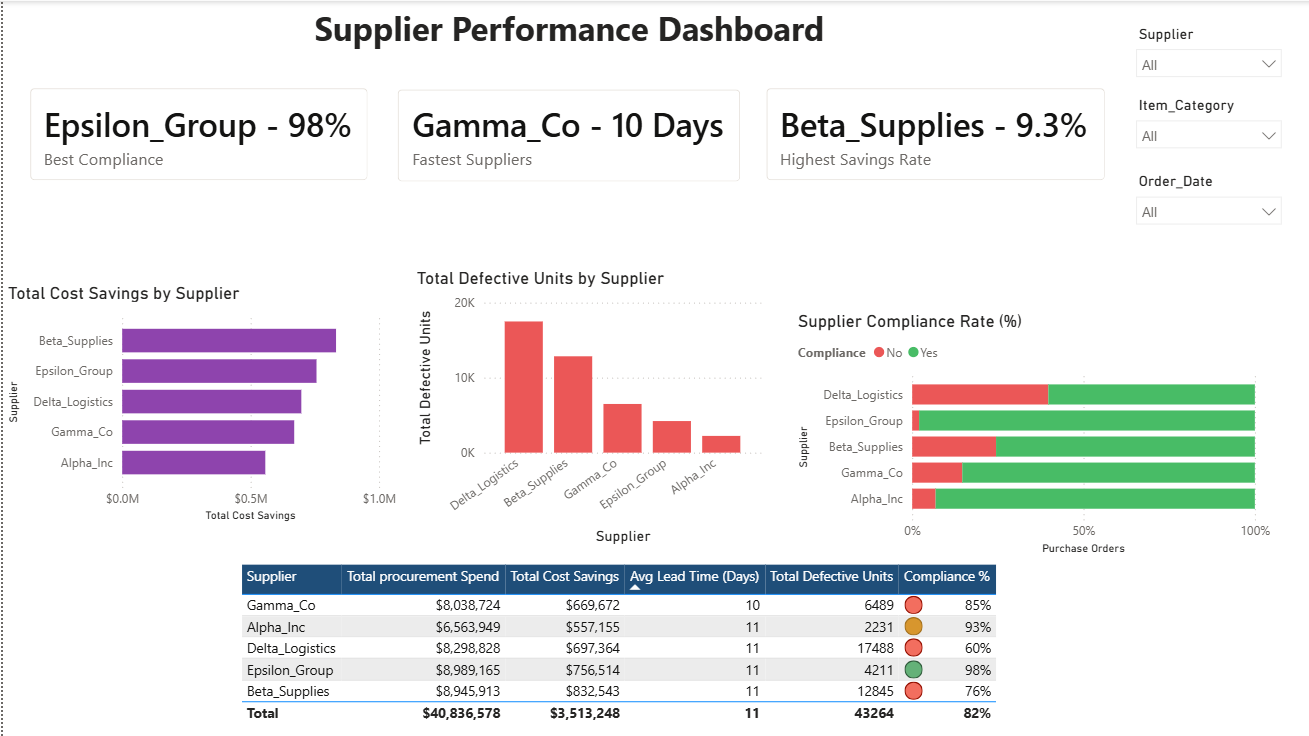

The dashboard page shown, as its layout file describes it:
{"tool":"powerbi","page":{"name":"Supplier Performance","canvas":[1280,720],"ordinal":1},"visuals":[{"type":"textbox","box":[9.8,0,1088.3,73.4],"z":0},{"type":"slicer","fields":{"Values":["Procurement KPI Analysis Dataset.Supplier"]},"box":[1098.1,18.3,162.6,69.7],"z":1000},{"type":"slicer","fields":{"Values":["Procurement KPI Analysis Dataset.Item_Category"]},"box":[1098.1,88,162.6,62.4],"z":2000},{"type":"slicer","fields":{"Values":["Procurement KPI Analysis Dataset.Order_Date"]},"box":[1098.1,162.6,162.6,62.4],"z":3000},{"type":"clusteredBarChart","fields":{"Category":["Procurement KPI Analysis Dataset.Supplier"],"Y":["Procurement KPI Analysis Dataset.Total Cost Savings"]},"box":[0,275.1,390.1,239.7],"z":4000},{"type":"hundredPercentStackedBarChart","title":"Supplier Compliance Rate (%)","fields":{"Category":["Procurement KPI Analysis Dataset.Supplier"],"Y":["Procurement KPI Analysis Dataset.Purchase Orders"],"Series":["Procurement KPI Analysis Dataset.Compliance"]},"box":[772.8,303.3,472,243.3],"z":5000},{"type":"tableEx","fields":{"Values":["Procurement KPI Analysis Dataset.Supplier","Procurement KPI Analysis Dataset.Total procurement Spend","Procurement KPI Analysis Dataset.Total Cost Savings","Procurement KPI Analysis Dataset.Avg Lead Time (Days)","Procurement KPI Analysis Dataset.Total Defective Units","Procurement KPI Analysis Dataset.Compliance %"]},"box":[227.4,546.6,770.4,173.6],"z":6000},{"type":"clusteredColumnChart","fields":{"Category":["Procurement KPI Analysis Dataset.Supplier"],"Y":["Procurement KPI Analysis Dataset.Total Defective Units"]},"box":[399.9,260.5,347.3,276.4],"z":7000},{"type":"cardVisual","fields":{"Data":["Procurement KPI Analysis Dataset.Best Compliance Suppliers"]},"box":[9.8,68.5,364.4,124.7],"z":8000},{"type":"cardVisual","fields":{"Data":["Procurement KPI Analysis Dataset.Fastest Suppliers"]},"box":[369.3,69.7,369.3,124.7],"z":9000},{"type":"cardVisual","fields":{"Data":["Procurement KPI Analysis Dataset.Highest Savings Supplier"]},"box":[730,68.5,365.6,124.7],"z":10000}]}

Visuals, with their boxes in screenshot pixels (x1, y1, x2, y2), scaled from the page's 1280x720 canvas onto the 1309x736 screenshot:
textbox: l=10, t=0, r=1123, b=75
slicer - Procurement KPI Analysis Dataset.Supplier: l=1123, t=19, r=1289, b=90
slicer - Procurement KPI Analysis Dataset.Item_Category: l=1123, t=90, r=1289, b=154
slicer - Procurement KPI Analysis Dataset.Order_Date: l=1123, t=166, r=1289, b=230
clusteredBarChart - Procurement KPI Analysis Dataset.Supplier x Procurement KPI Analysis Dataset.Total Cost Savings: l=0, t=281, r=399, b=526
"Supplier Compliance Rate (%)" hundredPercentStackedBarChart: l=790, t=310, r=1273, b=559
tableEx - Procurement KPI Analysis Dataset.Supplier x Procurement KPI Analysis Dataset.Total procurement Spend: l=233, t=559, r=1020, b=735
clusteredColumnChart - Procurement KPI Analysis Dataset.Supplier x Procurement KPI Analysis Dataset.Total Defective Units: l=409, t=266, r=764, b=549
cardVisual - Procurement KPI Analysis Dataset.Best Compliance Suppliers: l=10, t=70, r=383, b=197
cardVisual - Procurement KPI Analysis Dataset.Fastest Suppliers: l=378, t=71, r=755, b=199
cardVisual - Procurement KPI Analysis Dataset.Highest Savings Supplier: l=747, t=70, r=1120, b=197
